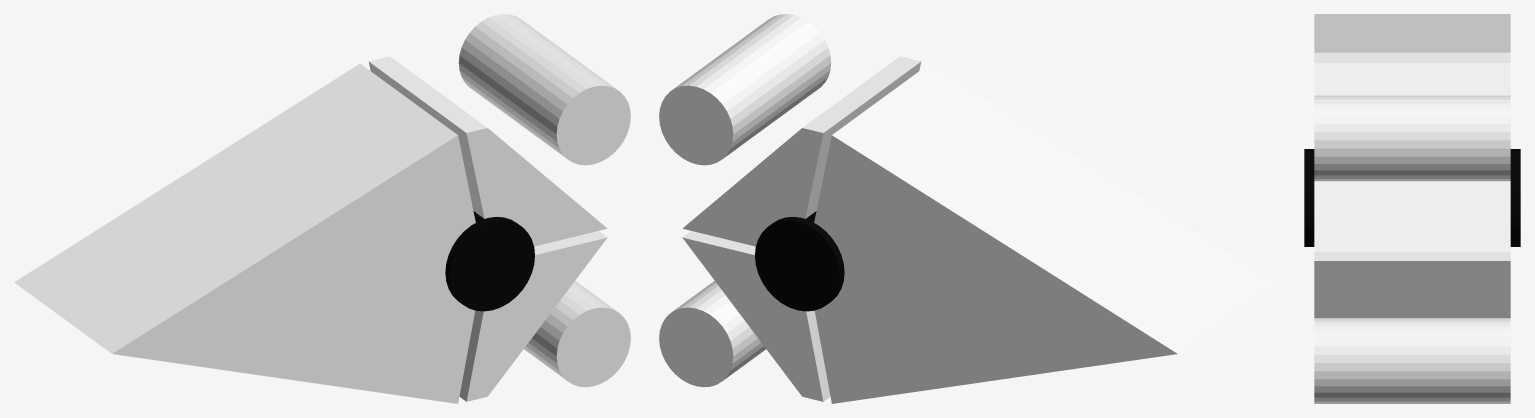
File: ship v0.9.obj
3 views of the same model, side by side, from view 1: azimuth 30°, elevation 25°; view 2: azimuth 150°, elevation 25°; view 3: azimuth 270°, elevation 25° (orthographic).
Visible parts, largest first — view 1: Cylinder_Main_Cylinder.001; view 2: Cylinder_Main_Cylinder.001; view 3: Cylinder_Main_Cylinder.001.
Part boxes in pixels (box(x1,y1,x2,y2)): Cylinder_Main_Cylinder.001: box(14, 14, 630, 403); Cylinder_Main_Cylinder.001: box(659, 14, 1275, 403); Cylinder_Main_Cylinder.001: box(1304, 14, 1520, 403).
Size of the model in its own units: 6.12 by 3.38 by 2.2.
